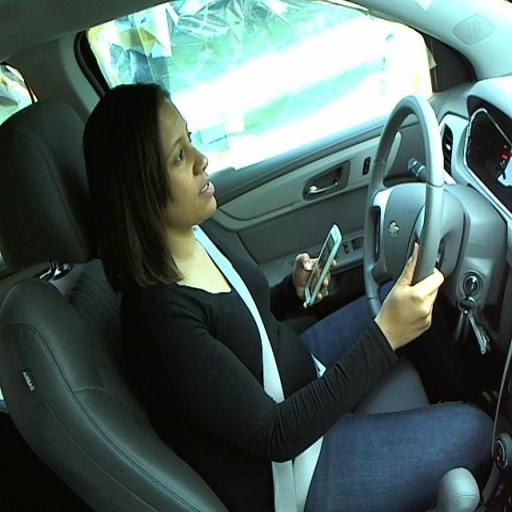texting_phone: (88, 95, 443, 439)
